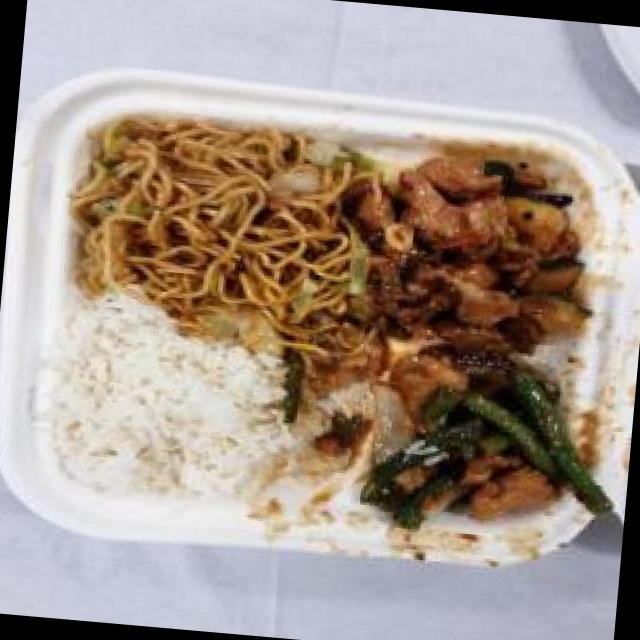Chow Mein: (65, 105, 362, 338)
Kung Pao Chicken: (348, 136, 606, 369)
String Bean Chicken Breast: (322, 342, 620, 546)
White Steamed Rice: (39, 307, 329, 515)
